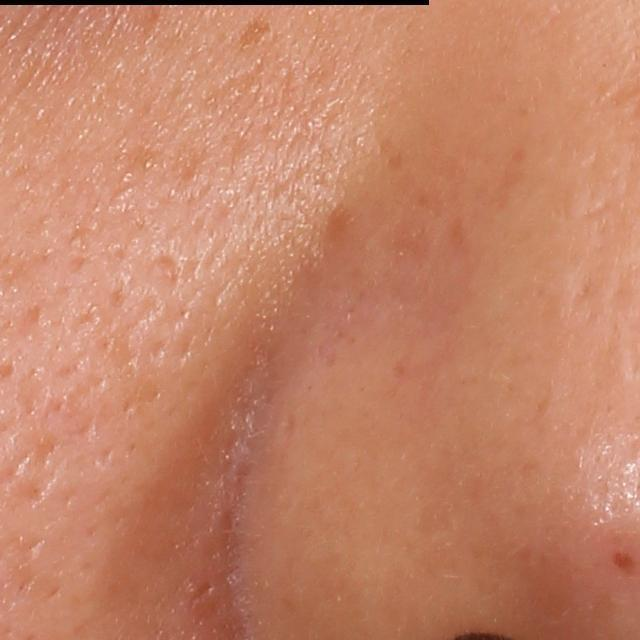melasma: (236, 14, 271, 49)
